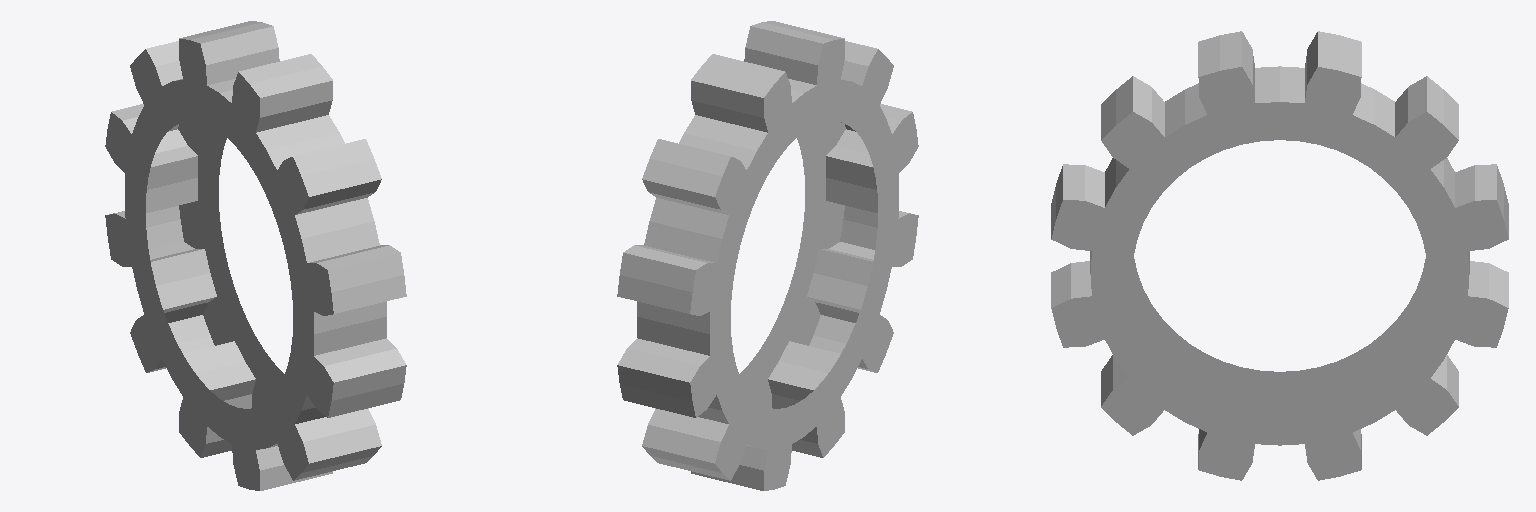
The model's file is simplwGear.obj.
3 renders of one model, left to right at view 1: azimuth 30°, elevation 25°; view 2: azimuth 150°, elevation 25°; view 3: azimuth 270°, elevation 25°, orthographic.
Parts seen in each view (by area): view 1: Gear; view 2: Gear; view 3: Gear.
Part boxes in pixels (left/top/right/bottom): Gear: left=105, top=21, right=406, bottom=490; Gear: left=617, top=21, right=918, bottom=490; Gear: left=1051, top=31, right=1508, bottom=480.
Size of the model in its own units: 0.4 by 2.17 by 2.17.